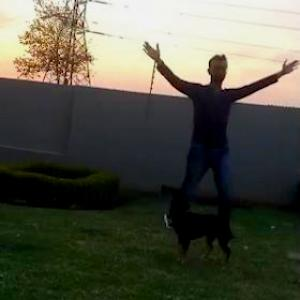takeoff: (150, 42, 291, 223)
